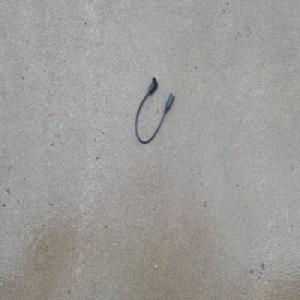Wire: (134, 75, 175, 144)
